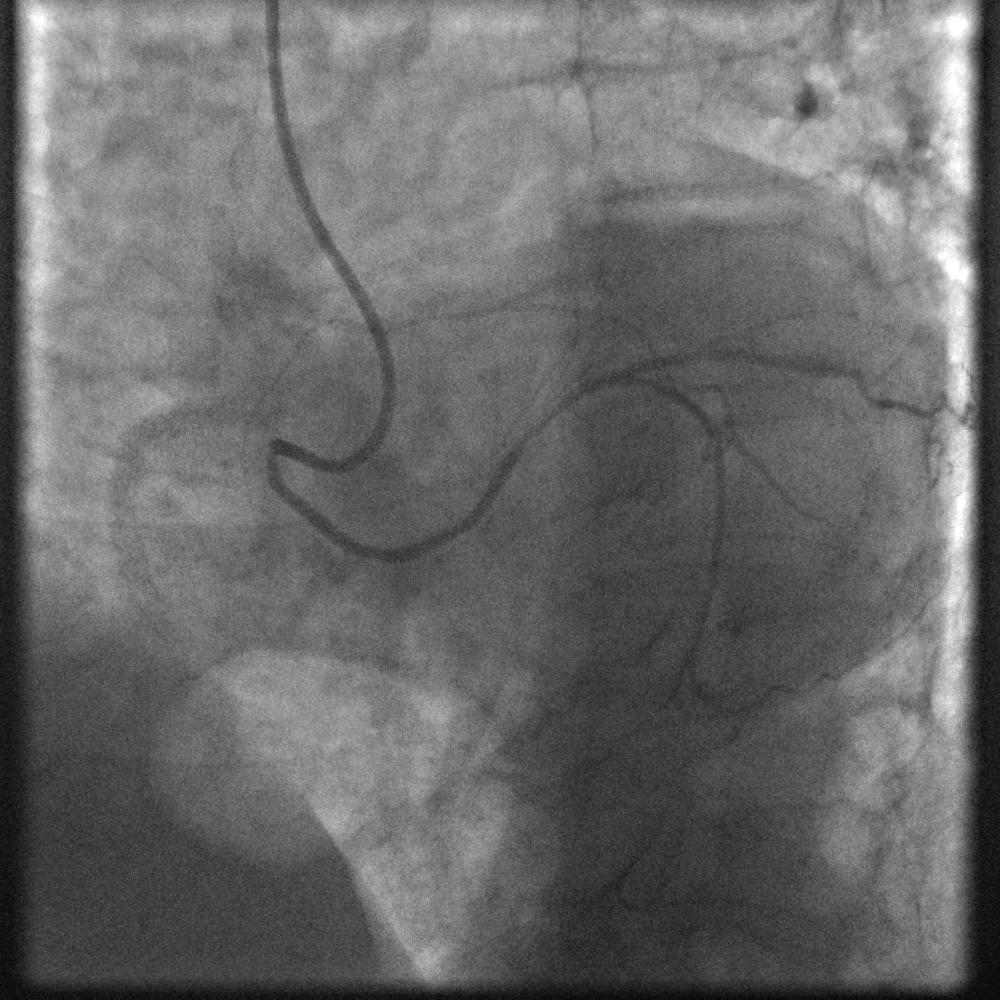Stenosis: (513, 396, 576, 446)
